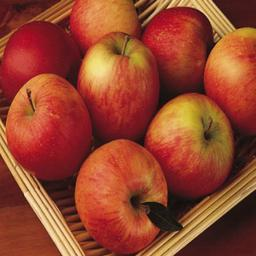apple: (74, 141, 182, 255), (145, 92, 235, 196), (76, 31, 159, 139), (6, 80, 92, 184), (1, 20, 81, 105), (141, 6, 212, 100), (203, 25, 256, 137), (70, 1, 141, 48)
